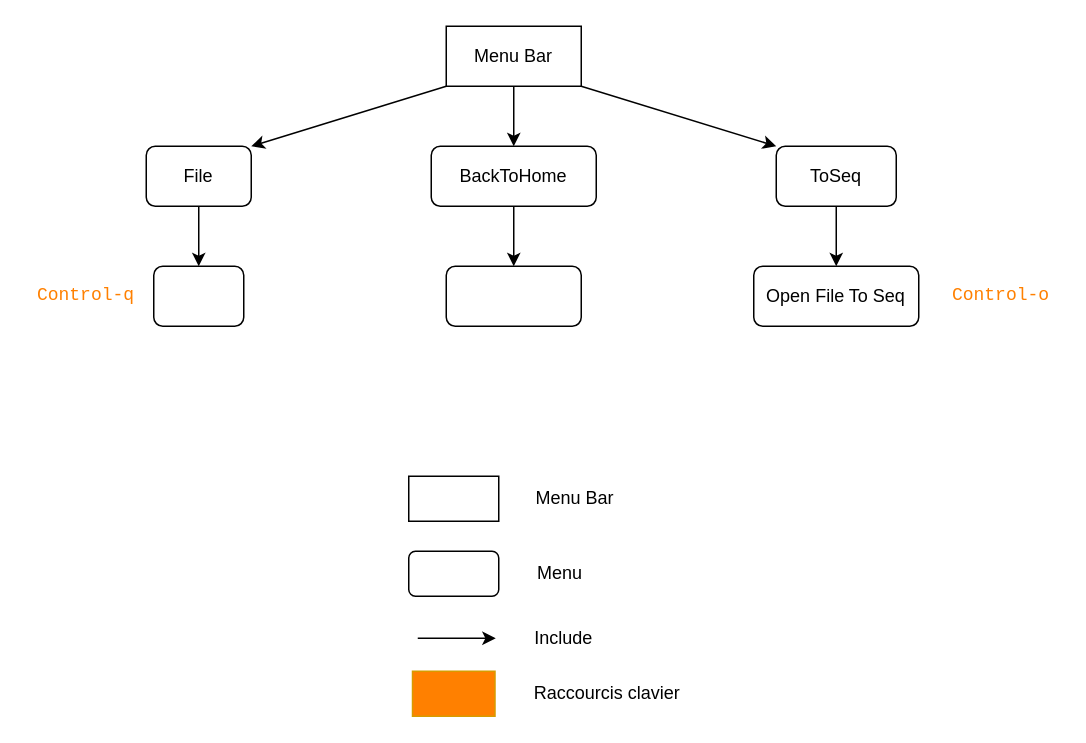
Some shapes in this 1086 by 743 pixel diagram are drawn without their labels. Each missing label, with the centre of its shape:
"Home Page" belongs at point (513, 295).
"Quit" belongs at point (198, 295).
